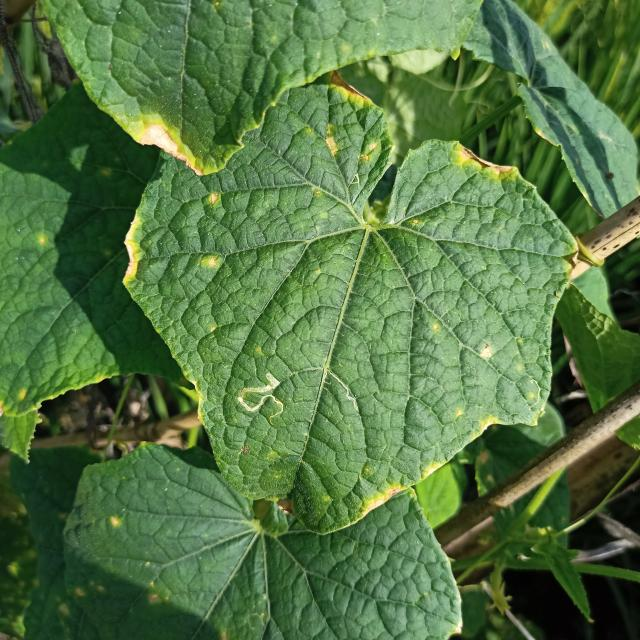disease_cucumber: (321, 74, 387, 167), (452, 404, 504, 441), (477, 344, 498, 364), (199, 254, 220, 270), (208, 189, 224, 208)
